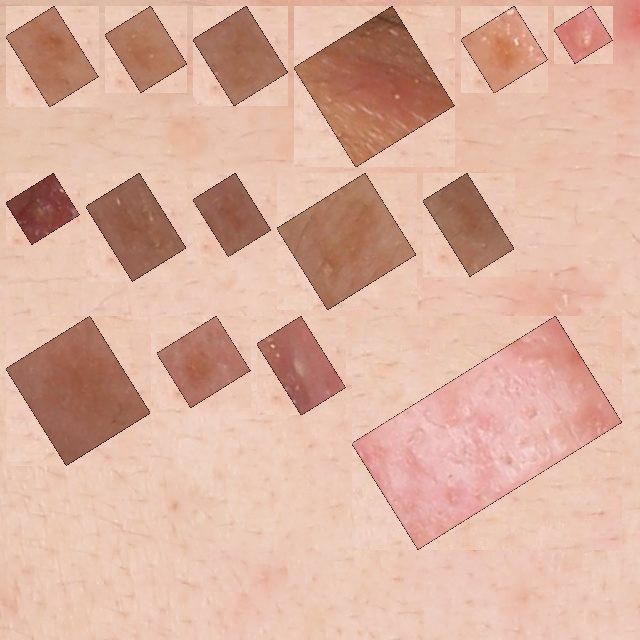hypertrophic_scar: (363, 327, 611, 538), (305, 17, 443, 156)
melasma: (17, 327, 139, 454), (288, 184, 405, 299), (97, 184, 175, 270), (204, 17, 277, 95), (434, 184, 503, 265), (17, 17, 87, 96), (168, 327, 239, 396), (472, 17, 537, 82), (116, 17, 176, 81), (204, 184, 260, 245)
pustule: (268, 327, 335, 404), (17, 184, 68, 233), (565, 17, 601, 52)
